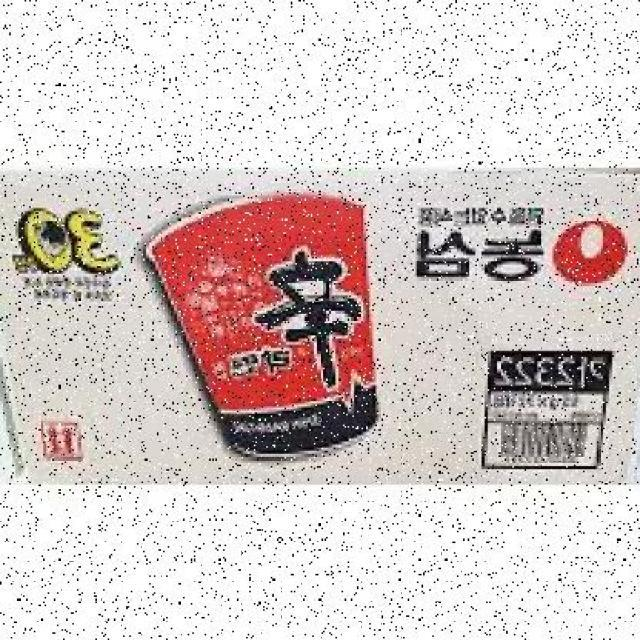Miscellaneous: (151, 190, 392, 458)
